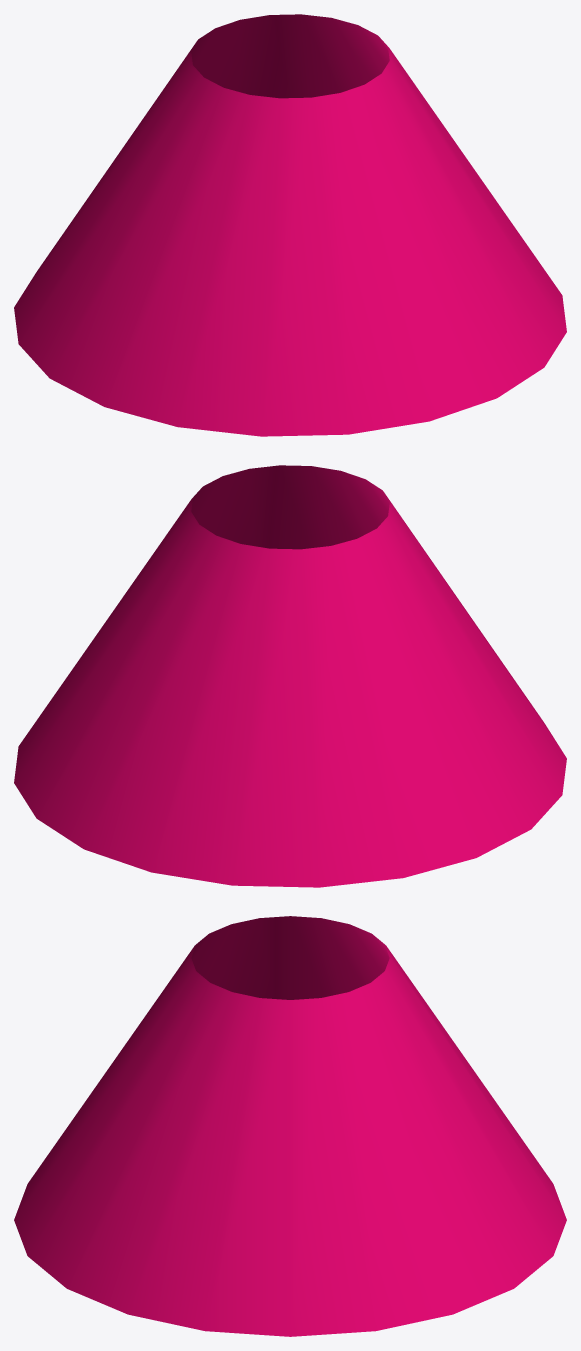
File: Lamp_02_Lampshade_AutoIllum.fbx
3 views of the same model, one above another, from view 1: azimuth 30°, elevation 25°; view 2: azimuth 150°, elevation 25°; view 3: azimuth 270°, elevation 25° (orthographic).
Visible parts, largest first — view 1: Lamp_02_Lampshade_AutoIllum; view 2: Lamp_02_Lampshade_AutoIllum; view 3: Lamp_02_Lampshade_AutoIllum.
Boxes of the visible parts, x1,y1,x2,y2 form: Lamp_02_Lampshade_AutoIllum: [14, 14, 566, 436]; Lamp_02_Lampshade_AutoIllum: [14, 465, 566, 887]; Lamp_02_Lampshade_AutoIllum: [14, 916, 566, 1336].
Bounding box in the file's own units: 53.18 × 27.82 × 53.18.
